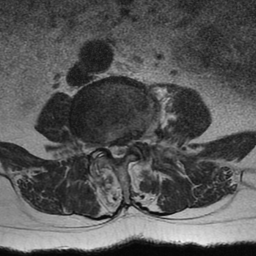CCS_stenosis: (114, 135, 122, 170)
LFS_stenosis: (130, 128, 140, 154)
LLS_stenosis: (122, 135, 130, 163)
RFS_severe_stenosis: (98, 132, 106, 158)
RLS_stenosis: (106, 135, 114, 164)
